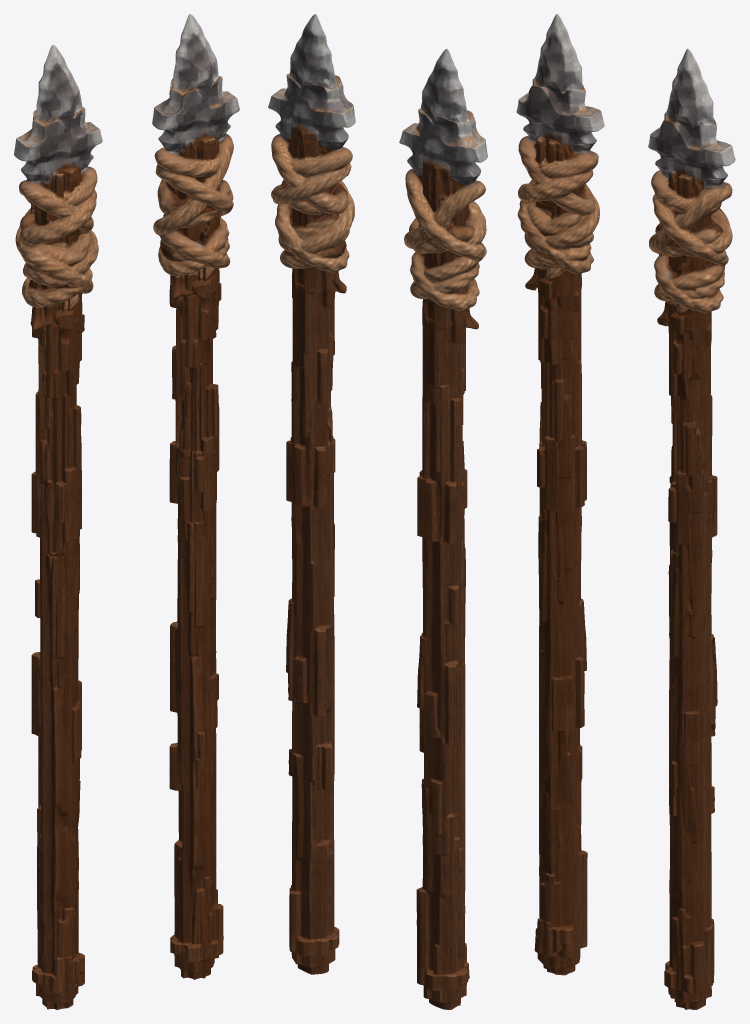
File: spear.glb
The picture shows the model from 3 angles, left to right: view 1: azimuth 30°, elevation 25°; view 2: azimuth 150°, elevation 25°; view 3: azimuth 330°, elevation 25°; orthographic projection.
Size of the model in its own units: 0.4496 by 1.9 by 0.1391.
Materials: 1 (1 with a texture image).
